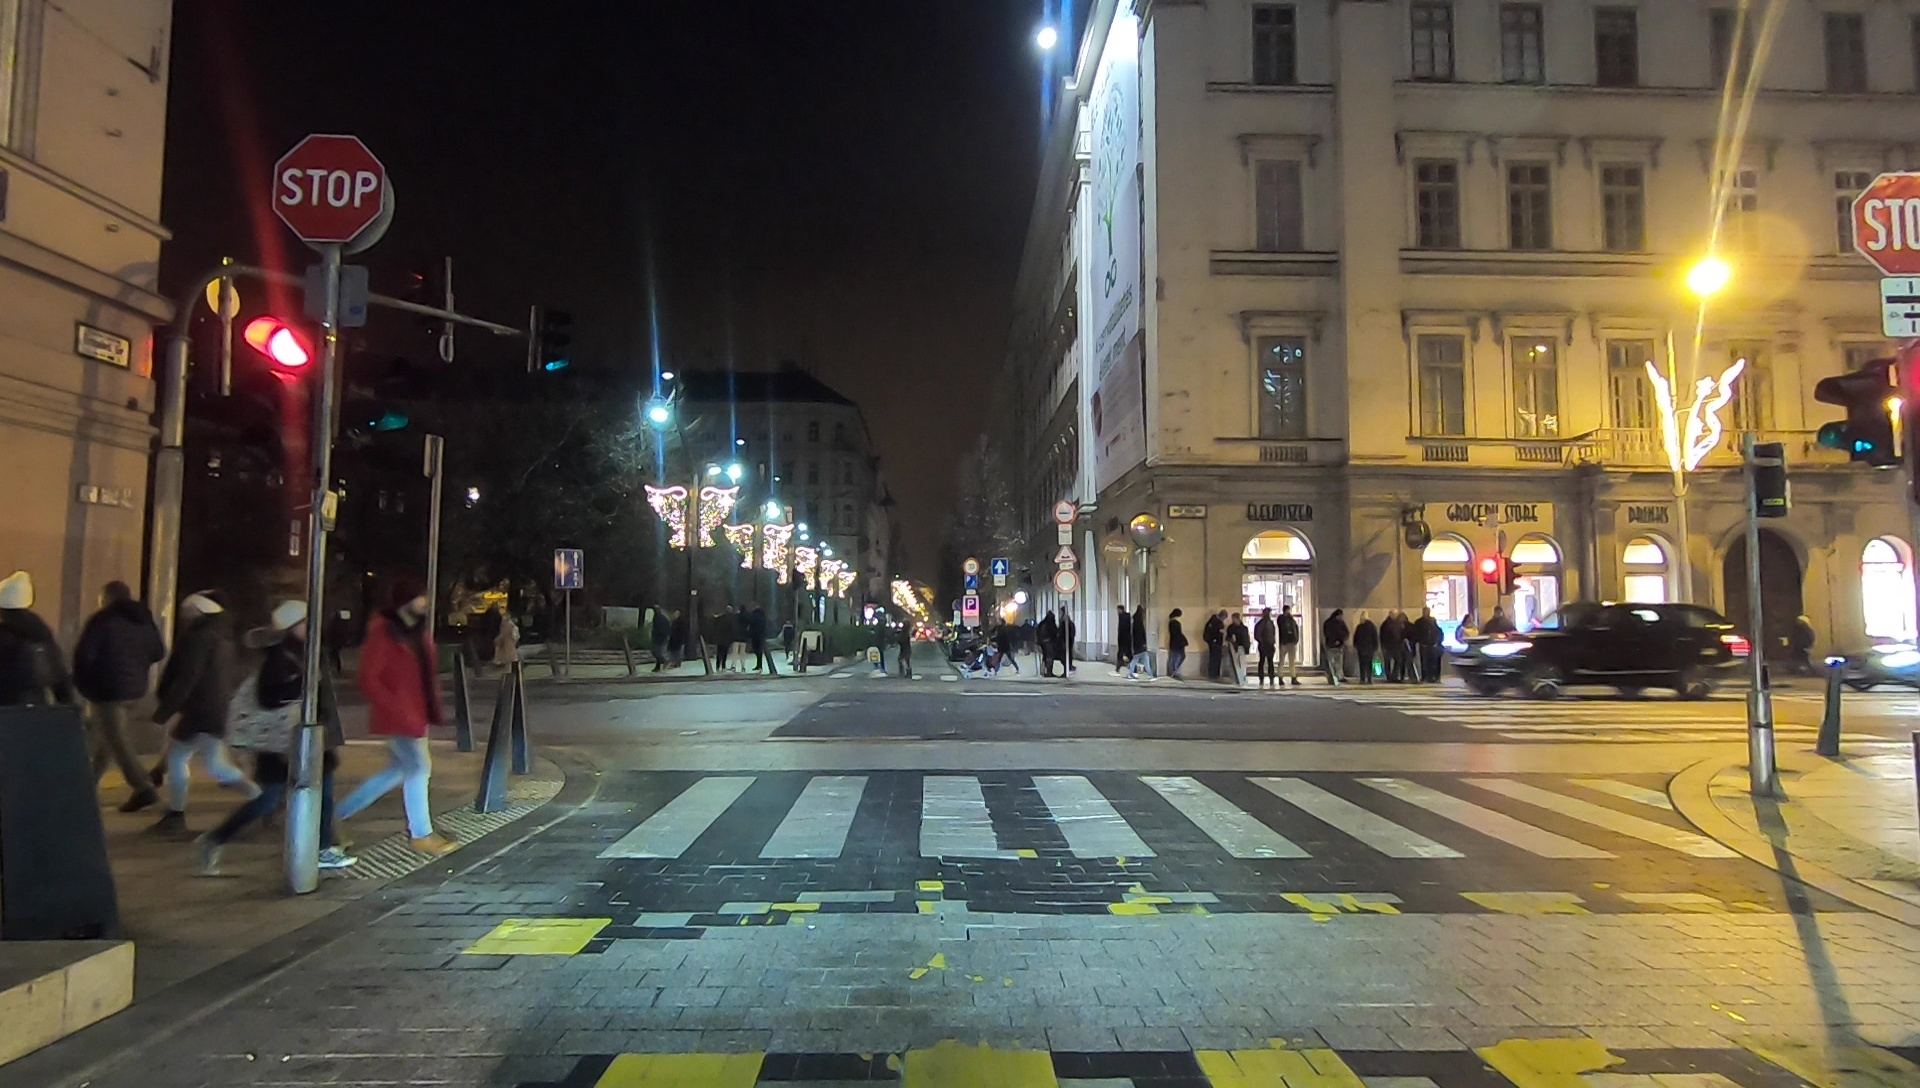person: (206, 611, 338, 880), (338, 599, 449, 849), (164, 586, 265, 834), (73, 582, 164, 811), (1, 571, 62, 808), (1410, 610, 1439, 684), (1321, 604, 1347, 684), (1278, 604, 1301, 680), (1352, 606, 1376, 678), (1256, 610, 1275, 686), (1165, 608, 1186, 674), (1206, 610, 1228, 676), (1232, 613, 1249, 687), (747, 610, 762, 673), (667, 604, 682, 671), (1041, 617, 1056, 678), (1382, 613, 1397, 678), (1112, 606, 1128, 663), (714, 604, 725, 678), (893, 624, 910, 674), (651, 608, 664, 669)
